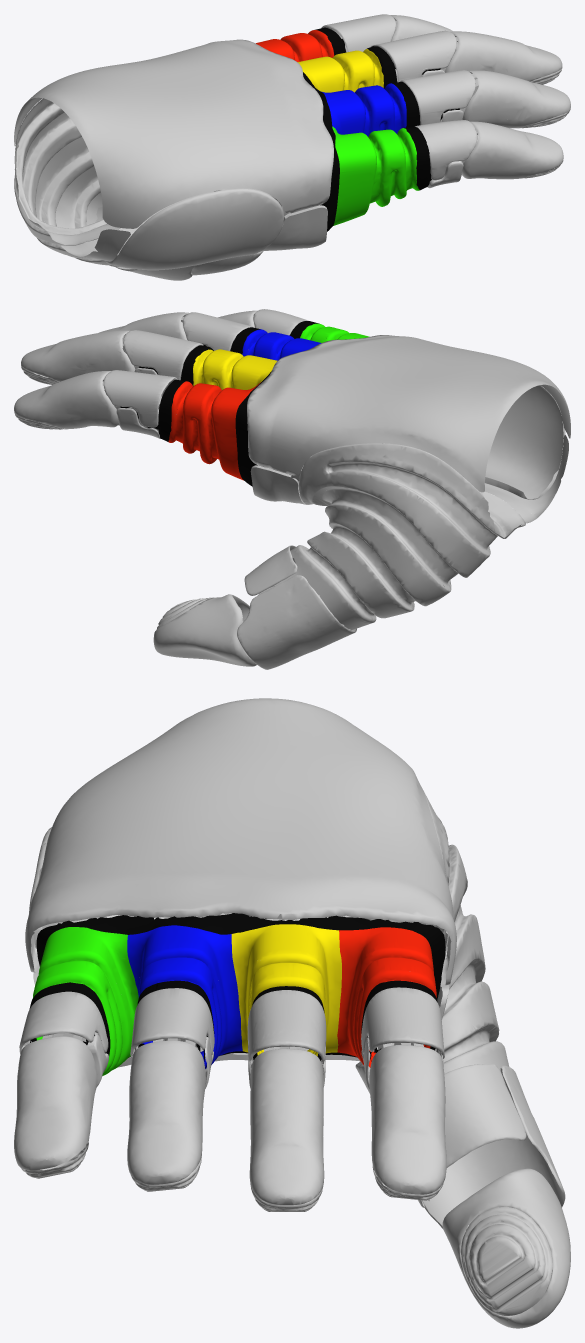
File: festh3_test6.obj
3 renders of one model, top to bottom at view 1: azimuth 30°, elevation 25°; view 2: azimuth 150°, elevation 25°; view 3: azimuth 270°, elevation 25°, orthographic. The views are drawn at different scales.
Parts seen in each view (by area): view 1: palm_1_part_25, gofra_1_part_12, gofra_2_patr_6, rubber_1_part_23, part_8, part_7, part_9, palm_1_part_24, falangi_2_part_17, falangi_2_part_15, falangi_2_part_13, falangi_2_part_19 (+4 smaller); view 2: palm_1_part_25, gofra_2_patr_6, gofra_1_part_12, rubber_1_part_23, falangi_2_part_21, part_11, part_10, part_9, palm_1_part_24, falangi_2_part_19, falangi_2_part_17, falangi_2_part_15 (+5 smaller); view 3: palm_1_part_25, gofra_1_part_12, part_9, part_10, part_8, part_7, gofra_2_patr_6, part_5, part_11, falangi_2_part_21, falangi_2_part_22, falangi_2_part_17 (+4 smaller).
Part boxes in pixels (x1,y1,x2,y2): palm_1_part_25: (14, 39, 333, 228); gofra_1_part_12: (256, 27, 459, 231); gofra_2_patr_6: (14, 98, 120, 266); rubber_1_part_23: (105, 188, 288, 270); part_8: (462, 70, 570, 128); part_7: (461, 121, 563, 179); part_9: (444, 31, 562, 81); palm_1_part_24: (61, 191, 327, 261); falangi_2_part_17: (374, 30, 456, 82); falangi_2_part_15: (400, 70, 475, 124); falangi_2_part_13: (415, 120, 477, 180); falangi_2_part_19: (321, 14, 395, 51); palm_1_part_25: (247, 335, 570, 492); gofra_2_patr_6: (258, 443, 525, 630); gofra_1_part_12: (120, 321, 369, 486); rubber_1_part_23: (259, 385, 565, 499); falangi_2_part_21: (237, 575, 356, 669); part_11: (153, 594, 256, 666); part_10: (14, 371, 118, 429); part_9: (21, 330, 135, 381); palm_1_part_24: (250, 435, 568, 523); falangi_2_part_19: (103, 370, 177, 427); falangi_2_part_17: (123, 330, 203, 380); falangi_2_part_15: (183, 312, 254, 350); palm_1_part_25: (25, 698, 456, 985); gofra_1_part_12: (29, 913, 445, 1075); part_9: (249, 1048, 324, 1205); part_10: (369, 1045, 446, 1194); part_8: (127, 1040, 205, 1184); part_7: (14, 1036, 97, 1170); gofra_2_patr_6: (249, 791, 509, 1201); part_5: (461, 1206, 552, 1315); part_11: (442, 1168, 570, 1328); falangi_2_part_21: (422, 1065, 565, 1231); falangi_2_part_22: (418, 1064, 526, 1207); falangi_2_part_17: (247, 990, 326, 1063).
Size of the model in its own units: 155 by 81.79 by 96.32.
